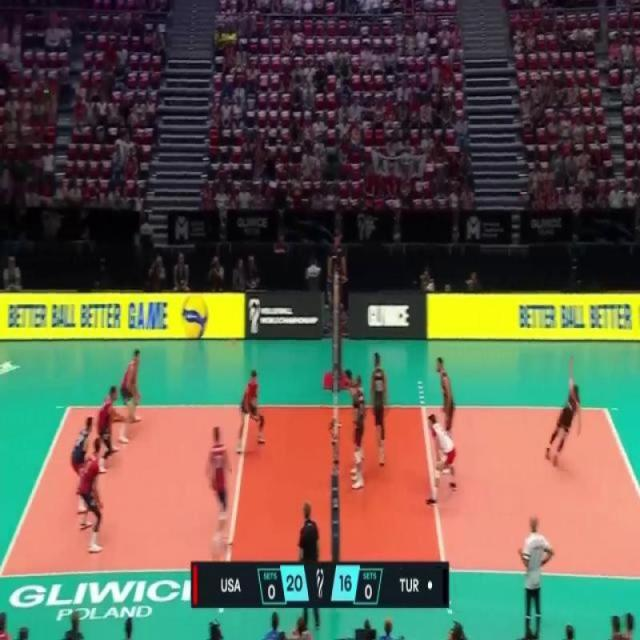volleyball: (179, 293, 210, 339), (230, 335, 237, 346)
